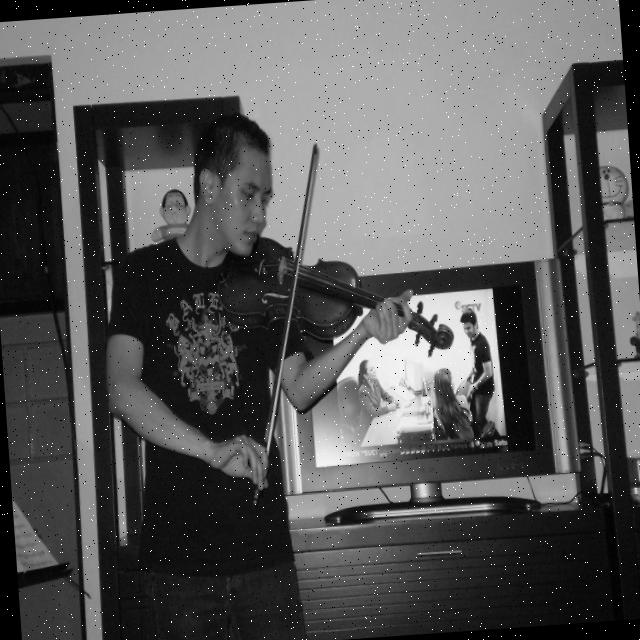violin: (218, 222, 456, 368)
